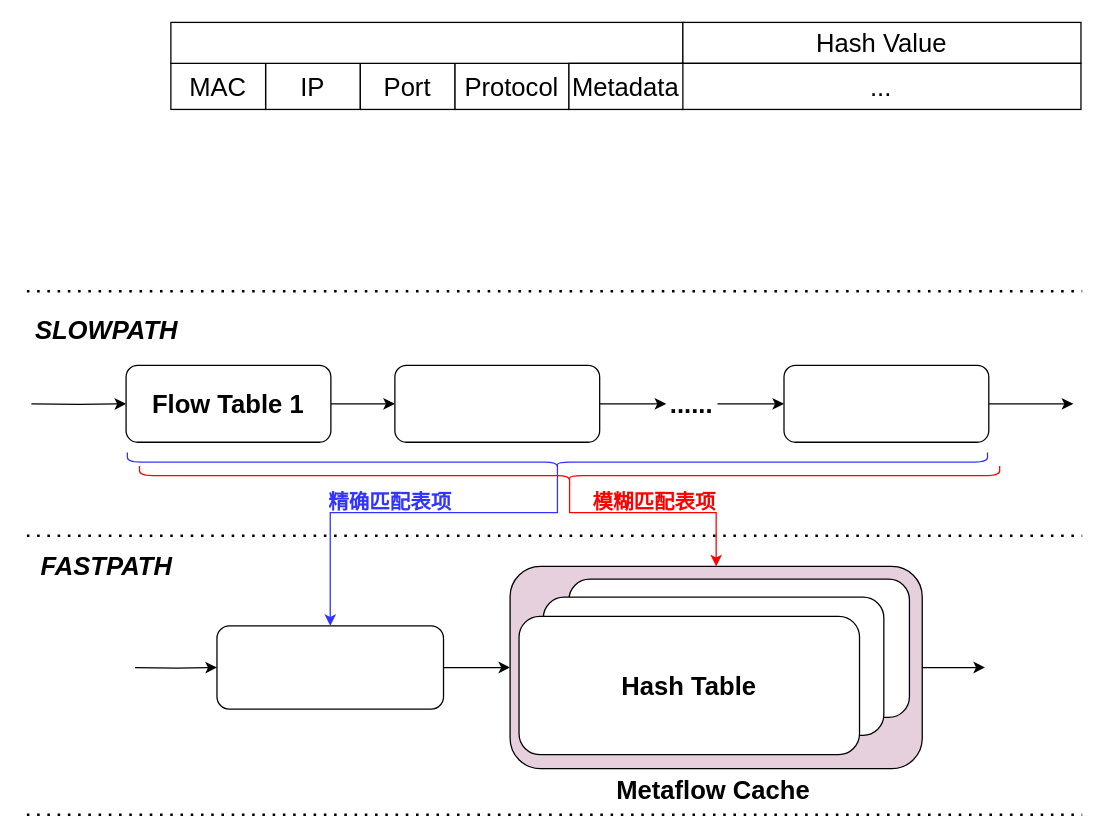
Some shapes in this 1107 by 840 pixel diagram are drawn without their labels. The centre of each missing label's shape, as x and y in pixels:
"Flow Table 2" belongs at (497,403).
"Flow Table n" belongs at (886,403).
"Hash Key" belongs at (426,42).
"Microflow Cache" belongs at (330,667).
